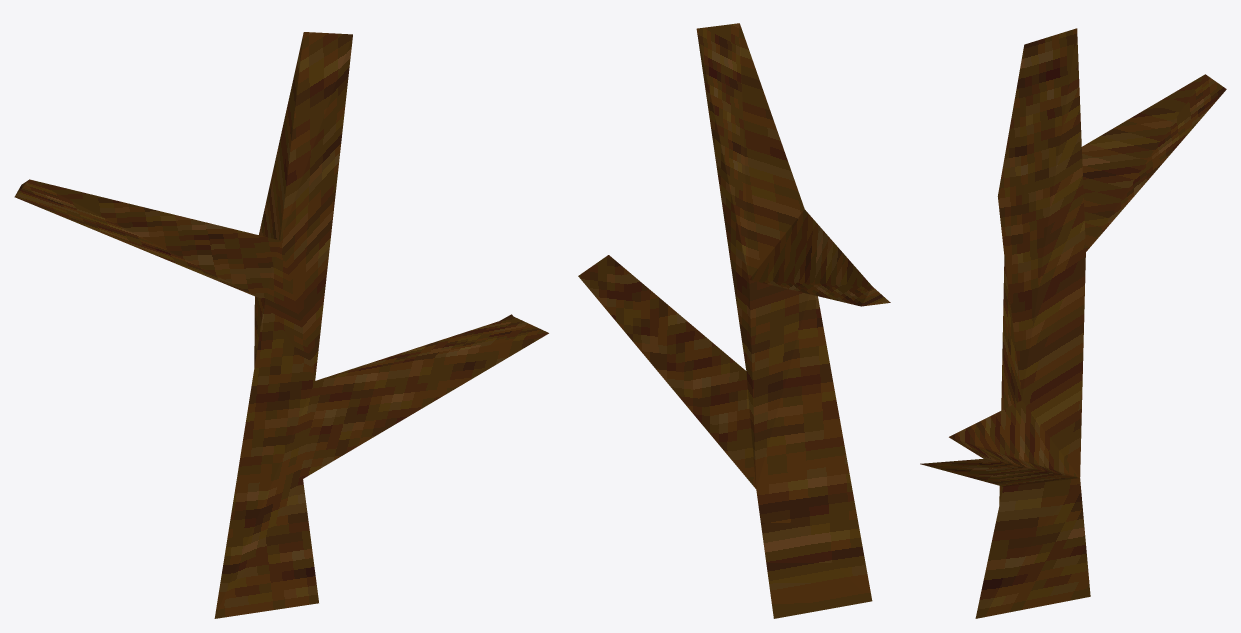
File: treebranch08.glb
The picture shows the model from 3 angles, left to right: view 1: azimuth 30°, elevation 25°; view 2: azimuth 150°, elevation 25°; view 3: azimuth 270°, elevation 25°; orthographic projection. The views are drawn at different scales.
Visible parts, largest first — view 1: treebranch08; view 2: treebranch08; view 3: treebranch08.
Boxes of the visible parts, left/top/right/bottom form: treebranch08: left=14, top=32, right=548, bottom=618; treebranch08: left=578, top=23, right=890, bottom=618; treebranch08: left=920, top=28, right=1226, bottom=618.
Size of the model in its own units: 511 by 652 by 297.
Materials: 1 (1 with a texture image).
